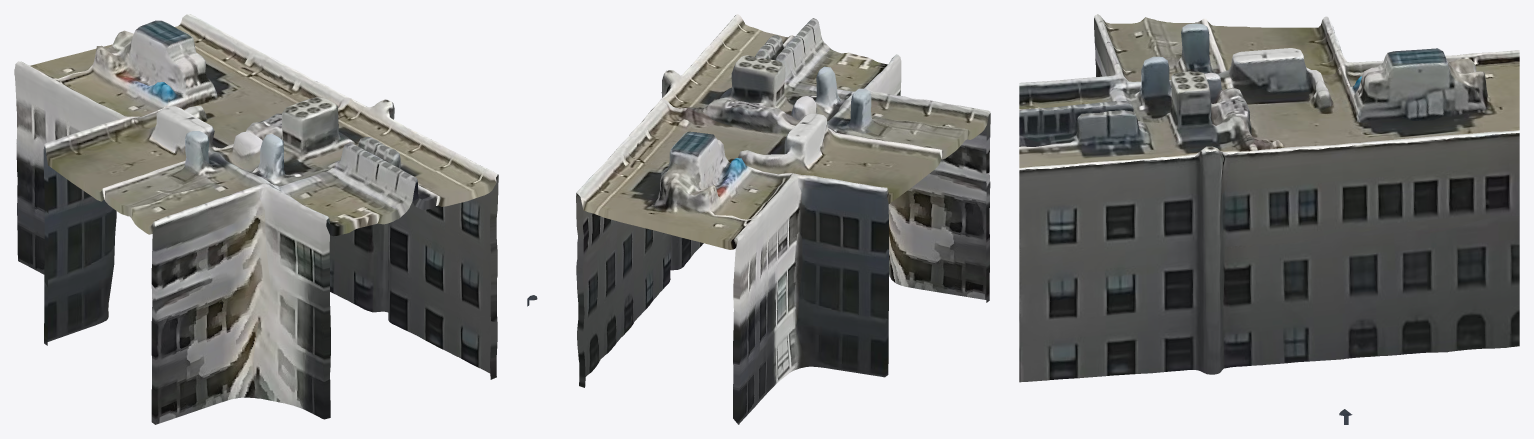
Rendered from z20-167766-405235-h1-yup-uvflip-v3-world.glb.
3 views of the same model, side by side, from view 1: azimuth 30°, elevation 25°; view 2: azimuth 150°, elevation 25°; view 3: azimuth 270°, elevation 25° (orthographic). The views are drawn at different scales.
Size of the model in its own units: 27.24 by 17.52 by 30.32.
1 material, 1 textured.
